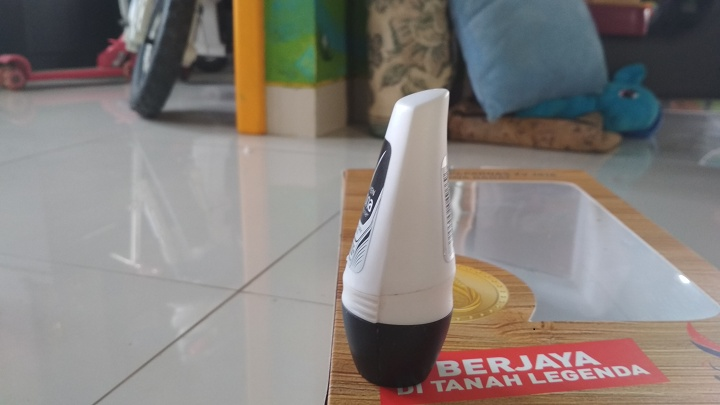rexona: (340, 85, 458, 387), (344, 76, 458, 387), (344, 85, 458, 387)
